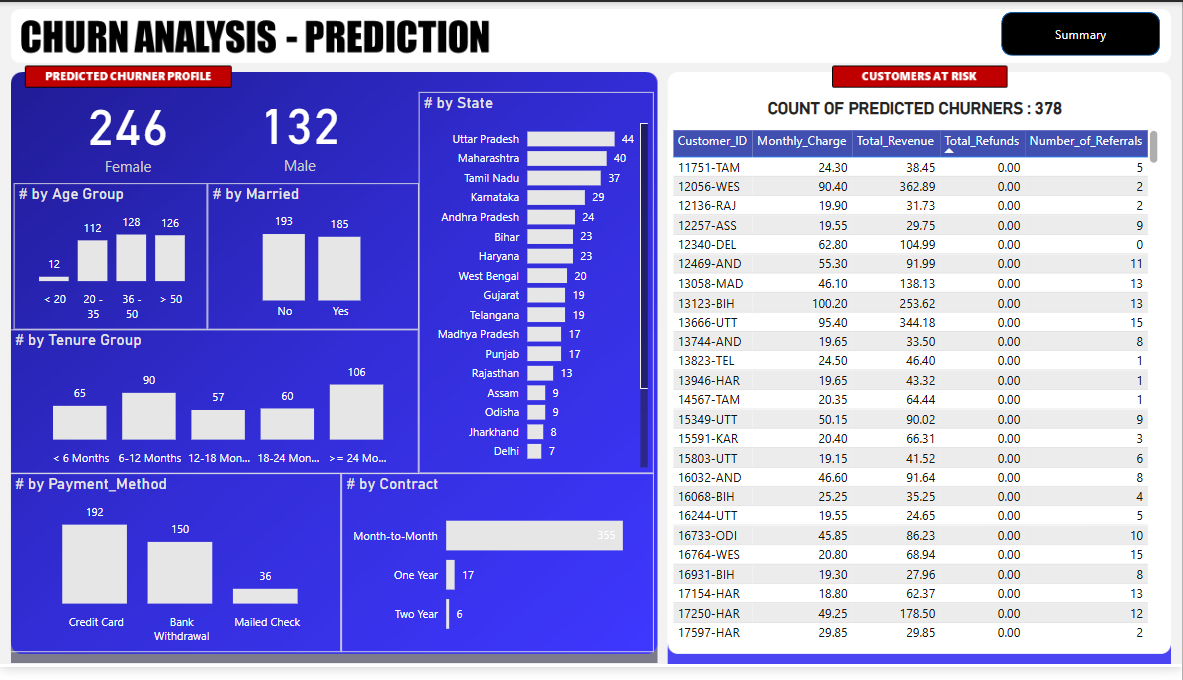

Layout of this report page (visuals, bound fields, positions):
{"tool":"powerbi","page":{"name":"Churn Prediction","canvas":[1280,720],"ordinal":1},"visuals":[{"type":"tableEx","fields":{"Values":["Predictions.Customer_ID","Predictions.Monthly_Charge","Predictions.Total_Revenue","Predictions.Total_Refunds","Predictions.Number_of_Referrals"]},"box":[722.7,134,535.9,560.3],"z":0},{"type":"card","fields":{"Values":["tbl_Measures.Title Predicted Churners"]},"box":[810.7,97.4,360,36.5],"z":1000},{"type":"card","fields":{"Values":["tbl_Measures.Count Predicted Churner"]},"box":[44.7,82.6,188.1,113.7],"z":2000},{"type":"card","fields":{"Values":["tbl_Measures.Count Predicted Churner"]},"box":[224.7,86.6,200.3,104.2],"z":3000},{"type":"clusteredColumnChart","fields":{"Category":["Predictions.Married"],"Y":["CountNonNull(Predictions.Customer_ID)"]},"box":[224.7,196.2,228.7,158.3],"z":4000},{"type":"clusteredColumnChart","fields":{"Y":["CountNonNull(Predictions.Customer_ID)"],"Category":["mapping_TenureGrp.Tenure Group "]},"box":[10.8,354.6,442.5,155.6],"z":5000},{"type":"clusteredColumnChart","fields":{"Y":["CountNonNull(Predictions.Customer_ID)"],"Category":["Predictions.Payment_Method"]},"box":[10.8,510.2,358.6,193.5],"z":6000},{"type":"clusteredBarChart","fields":{"Category":["Predictions.Contract"],"Y":["CountNonNull(Predictions.Customer_ID)"]},"box":[369.5,510.2,338.3,193.5],"z":7000},{"type":"clusteredBarChart","fields":{"Category":["prod_Churn.State"],"Y":["CountNonNull(Predictions.Customer_ID)"]},"box":[453.4,97.4,254.4,412.8],"z":8000},{"type":"clusteredColumnChart","fields":{"Category":["mapping_AgeGrp.Age Group"],"Y":["CountNonNull(Predictions.Customer_ID)"]},"box":[14.9,196.2,209.8,158.3],"z":9000},{"type":"shape","box":[1084,10.8,171.9,47.4],"z":10000}]}

Visuals, with their boxes in screenshot pixels (x1, y1, x2, y2), scaled from the page's 1280x720 canvas onto the 1183x680 screenshot:
tableEx - Predictions.Customer_ID x Predictions.Monthly_Charge: select_region(668, 127, 1163, 656)
card - tbl_Measures.Title Predicted Churners: select_region(749, 92, 1082, 126)
card - tbl_Measures.Count Predicted Churner: select_region(41, 78, 215, 185)
card - tbl_Measures.Count Predicted Churner: select_region(208, 82, 393, 180)
clusteredColumnChart - Predictions.Married x CountNonNull(Predictions.Customer_ID): select_region(208, 185, 419, 335)
clusteredColumnChart - CountNonNull(Predictions.Customer_ID) x mapping_TenureGrp.Tenure Group : select_region(10, 335, 419, 482)
clusteredColumnChart - CountNonNull(Predictions.Customer_ID) x Predictions.Payment_Method: select_region(10, 482, 341, 665)
clusteredBarChart - Predictions.Contract x CountNonNull(Predictions.Customer_ID): select_region(341, 482, 654, 665)
clusteredBarChart - prod_Churn.State x CountNonNull(Predictions.Customer_ID): select_region(419, 92, 654, 482)
clusteredColumnChart - mapping_AgeGrp.Age Group x CountNonNull(Predictions.Customer_ID): select_region(14, 185, 208, 335)
shape: select_region(1002, 10, 1161, 55)
